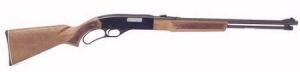rifle: (1, 0, 300, 72)
